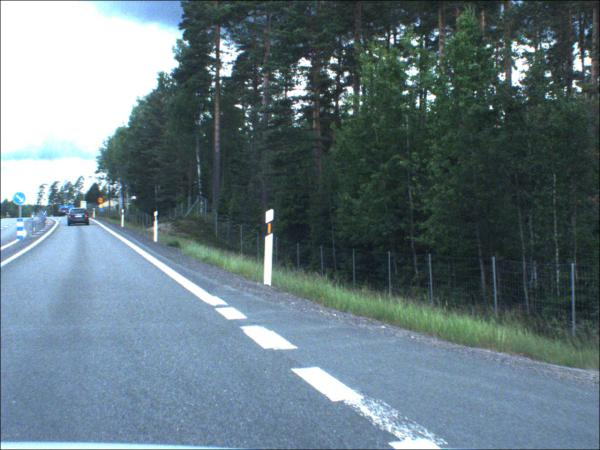100_SIGN: (99, 199, 106, 205)
PASS_RIGHT_SIDE: (14, 193, 28, 207)
PRIORITY_ROAD: (100, 205, 105, 210)
